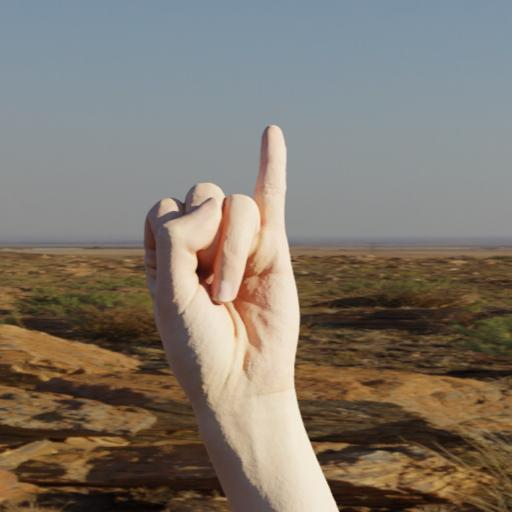I: (130, 118, 316, 410)
